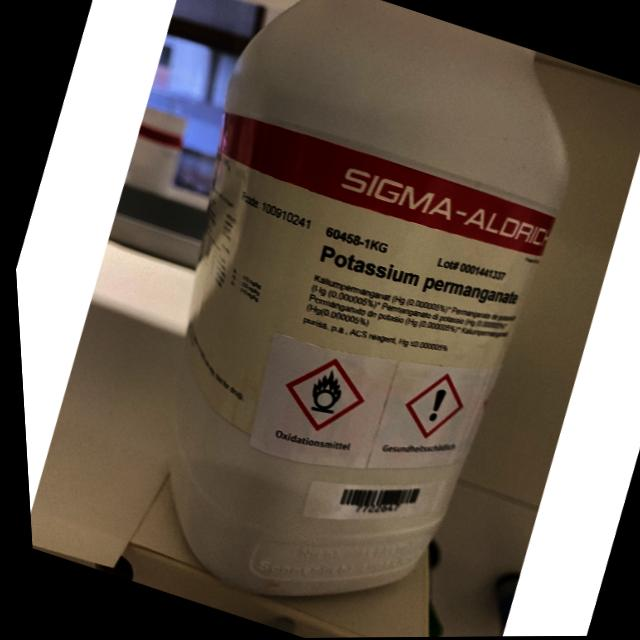health-ozone layer hazard: (387, 361, 469, 448)
oxidising: (267, 344, 371, 443)
